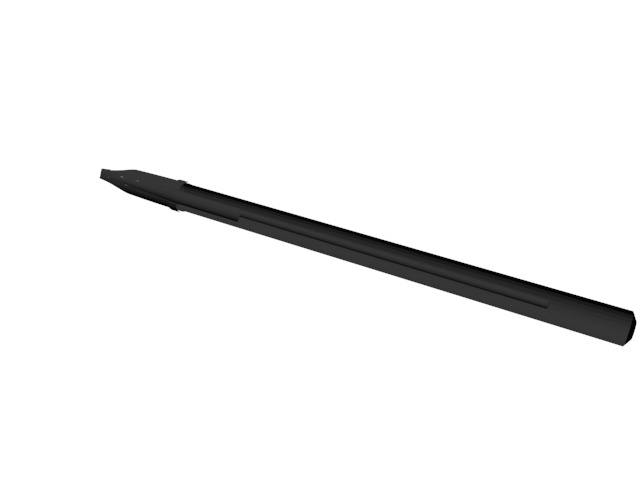pen: (97, 169, 640, 352)
